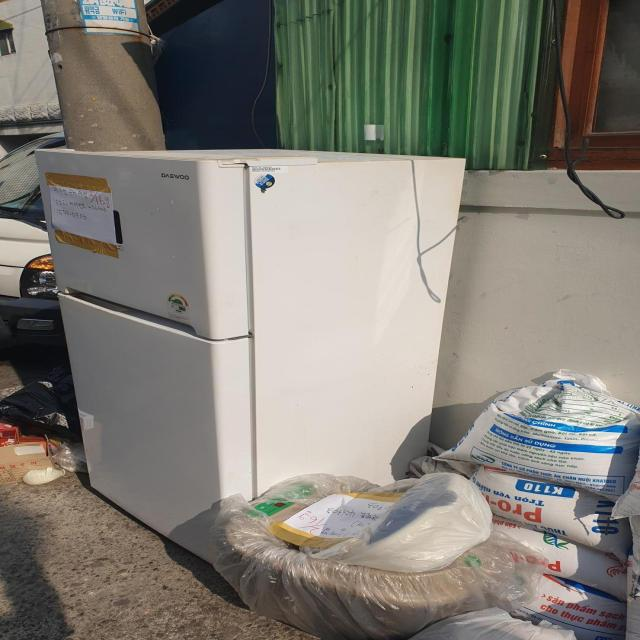refrigerator: (27, 145, 474, 577)
